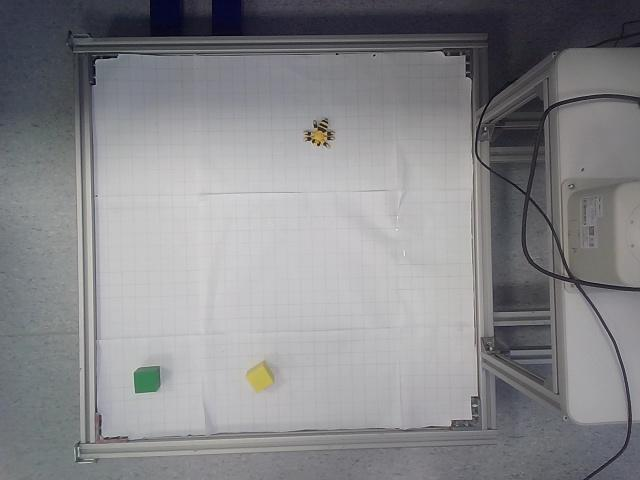frelon: (304, 118, 335, 149)
